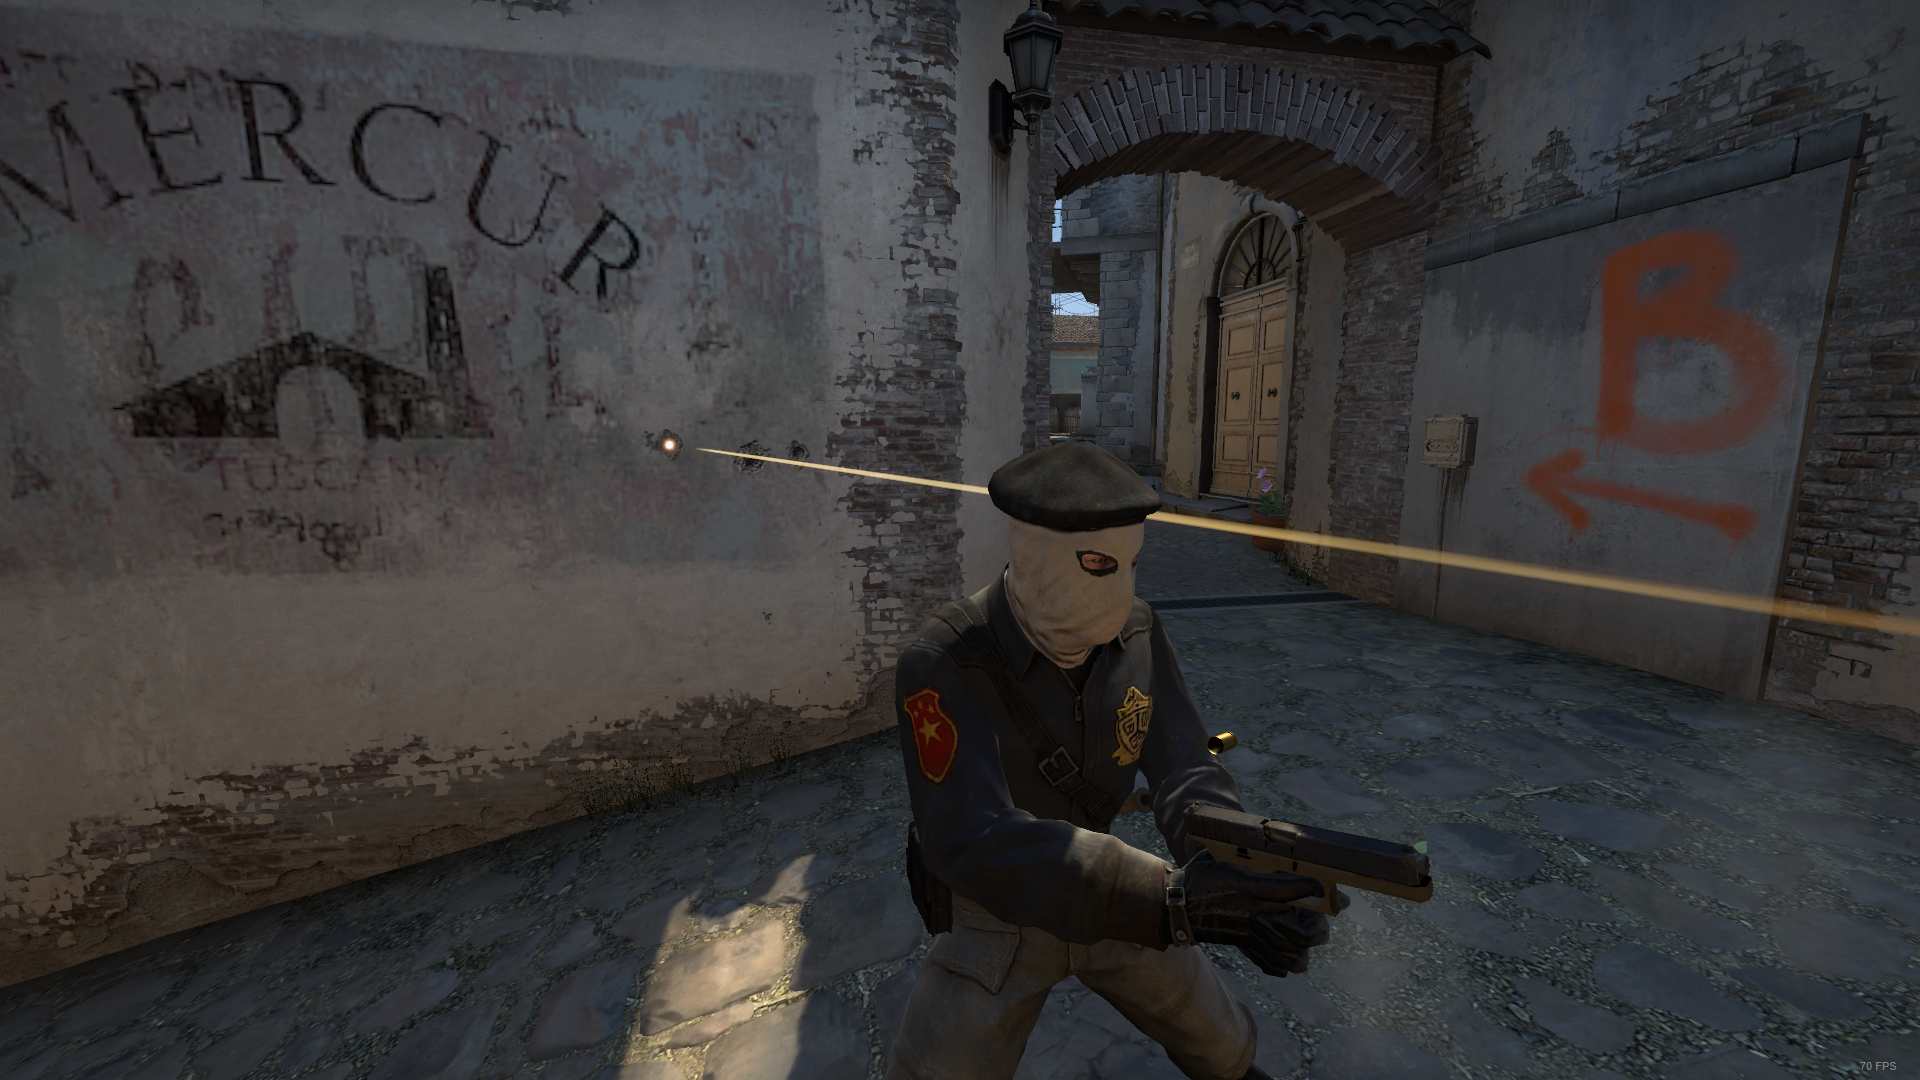t: (848, 425, 1327, 1075)
